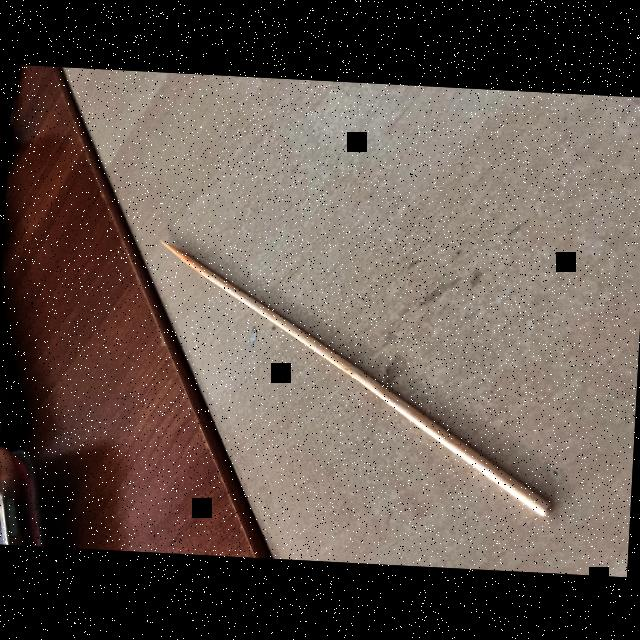stick: (140, 230, 575, 514)
